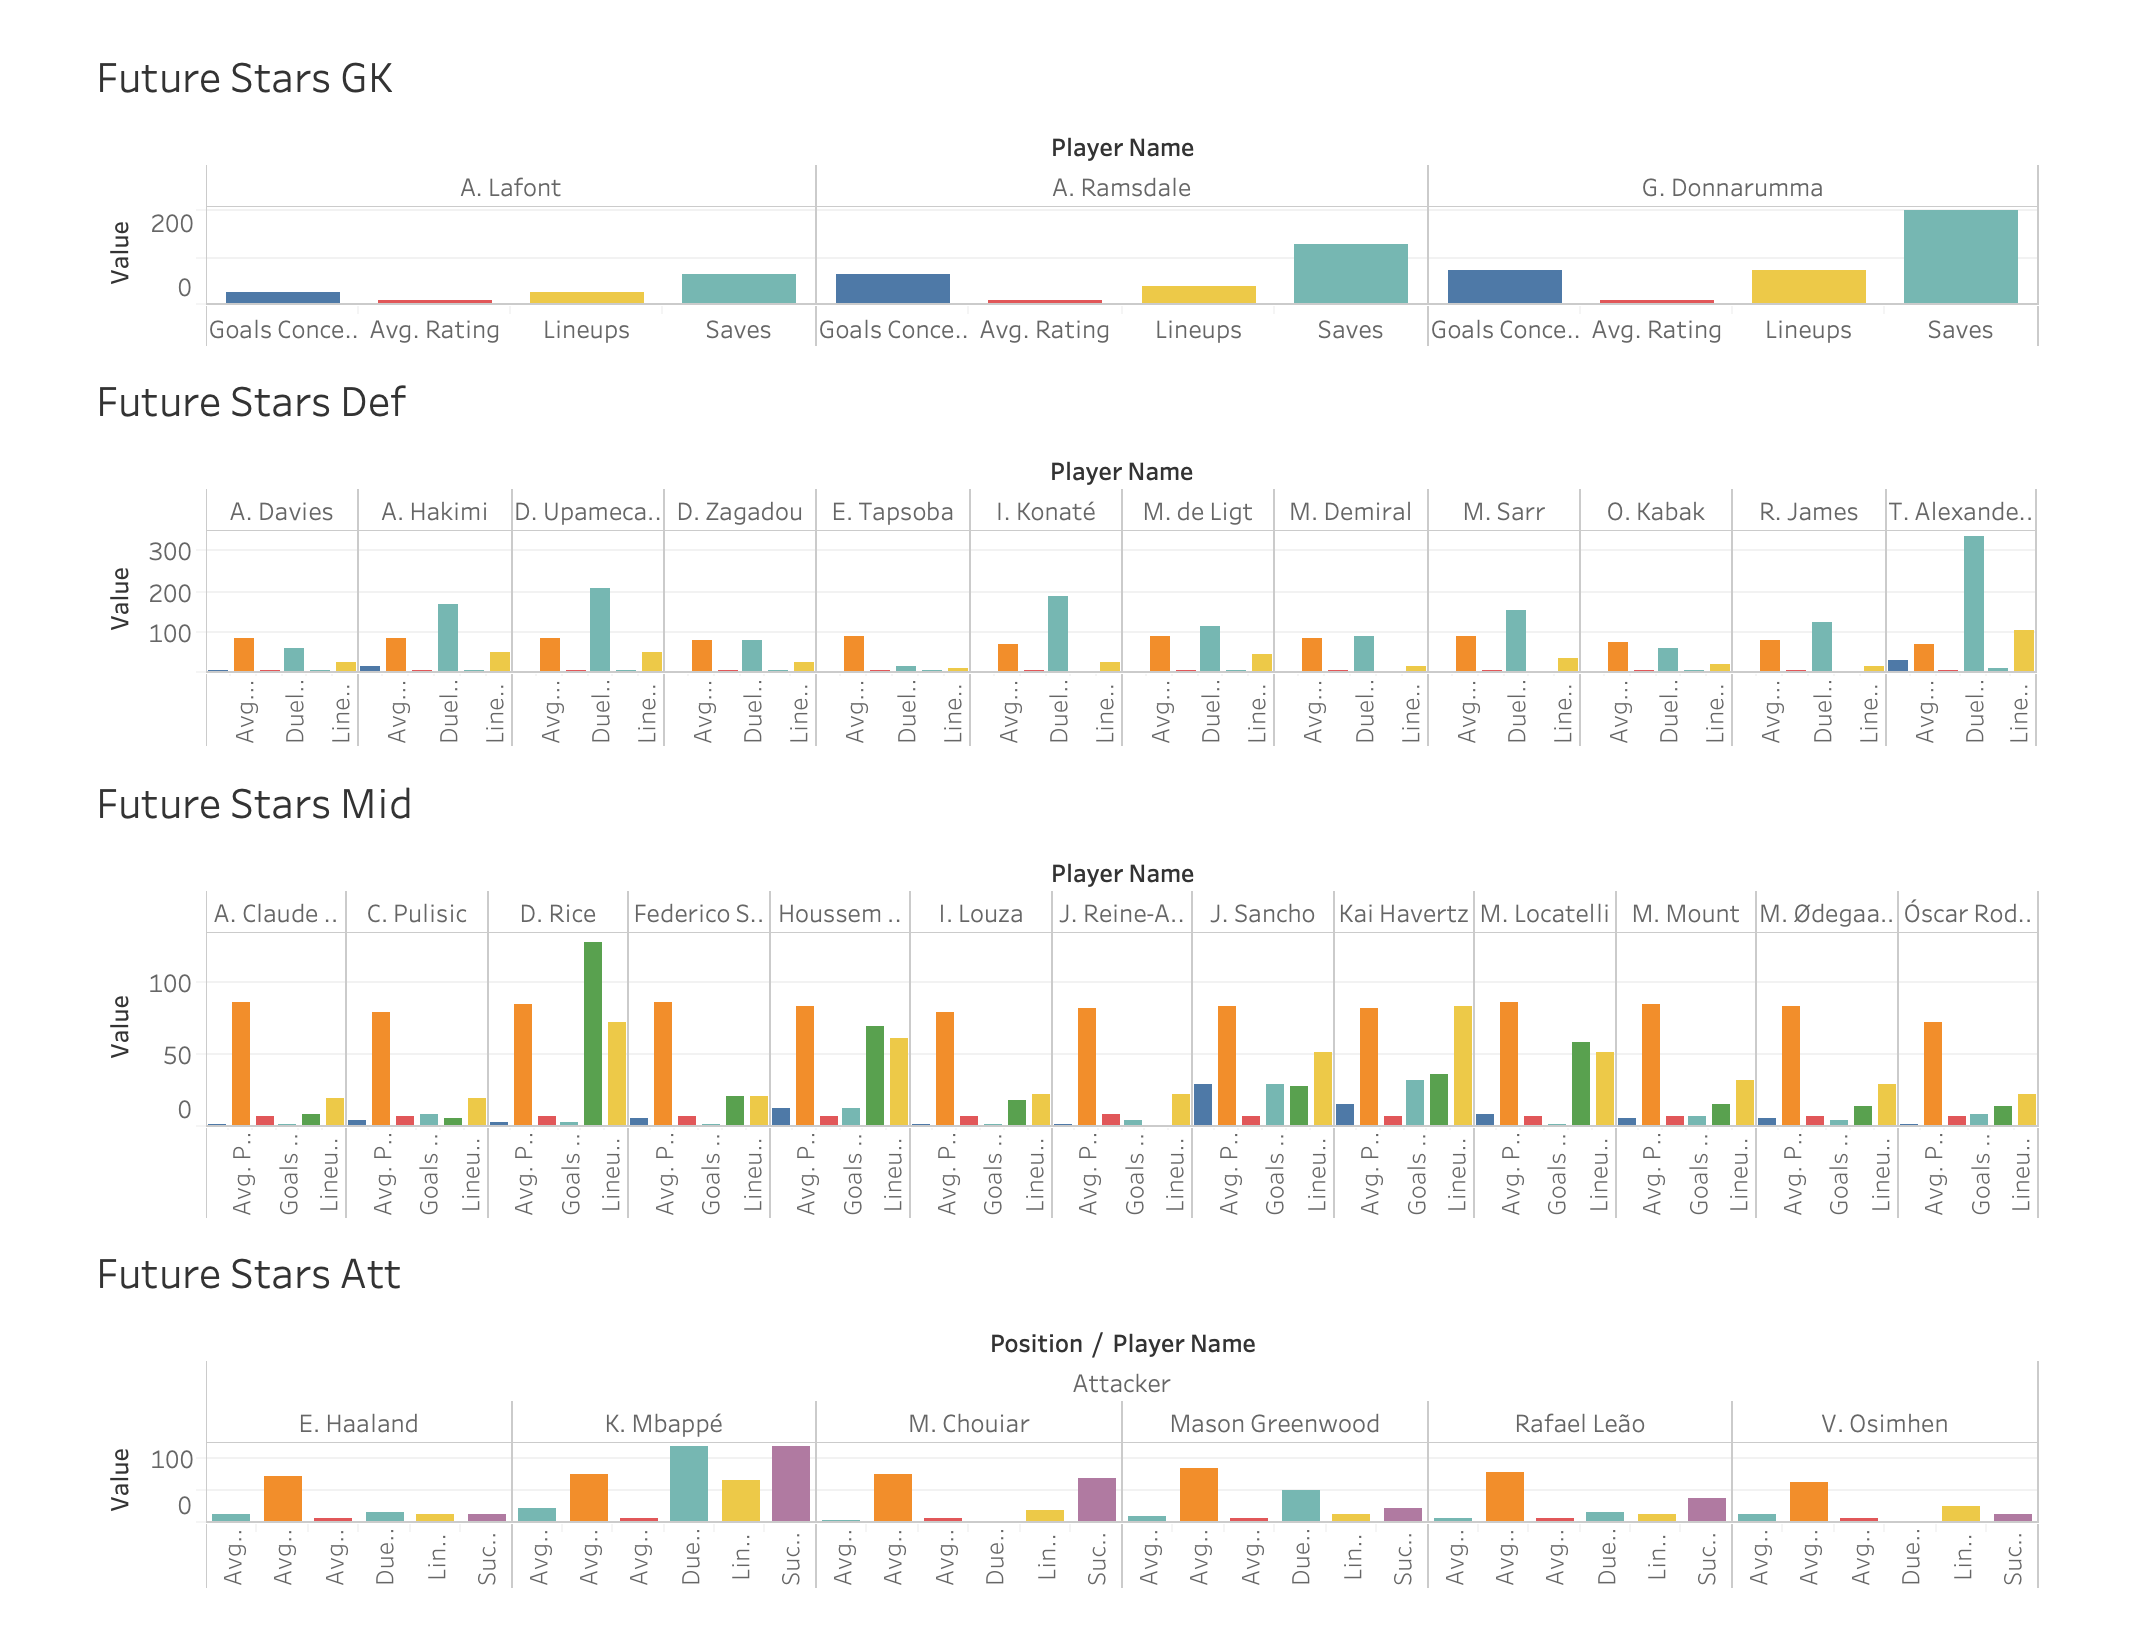

Layout of this report page (visuals, bound fields, positions):
{"tool":"tableau","page":{"name":"Dashboard 3","canvas":[1000,800],"ordinal":2},"visuals":[{"type":"worksheet","box":[0,0,1000,800]},{"type":"worksheet","param":"horz","box":[8,8,984,784]},{"type":"worksheet","box":[8,8,984,784]},{"type":"worksheet","title":"Future Stars GK","mark":"Automatic","cols":["player_name"],"box":[8,8,984,162]},{"type":"worksheet","title":"Future Stars Def","mark":"Automatic","cols":["player_name"],"box":[8,170,984,201]},{"type":"worksheet","title":"Future Stars Mid","mark":"Automatic","cols":["player_name"],"box":[8,371,984,235]},{"type":"worksheet","title":"Future Stars Att","mark":"Automatic","cols":["position","player_name"],"box":[8,606,984,186]}]}

Visuals, with their boxes on the page's 1000x800 design canvas (x1, y1, x2, y2). These are canvas units, not pixel positions in the 2142x1644 screenshot, which may show the page scaled, cropped or inside an application window:
worksheet: BBox(0, 0, 1000, 800)
worksheet: BBox(8, 8, 992, 792)
worksheet: BBox(8, 8, 992, 792)
"Future Stars GK" worksheet: BBox(8, 8, 992, 170)
"Future Stars Def" worksheet: BBox(8, 170, 992, 371)
"Future Stars Mid" worksheet: BBox(8, 371, 992, 606)
"Future Stars Att" worksheet: BBox(8, 606, 992, 792)
